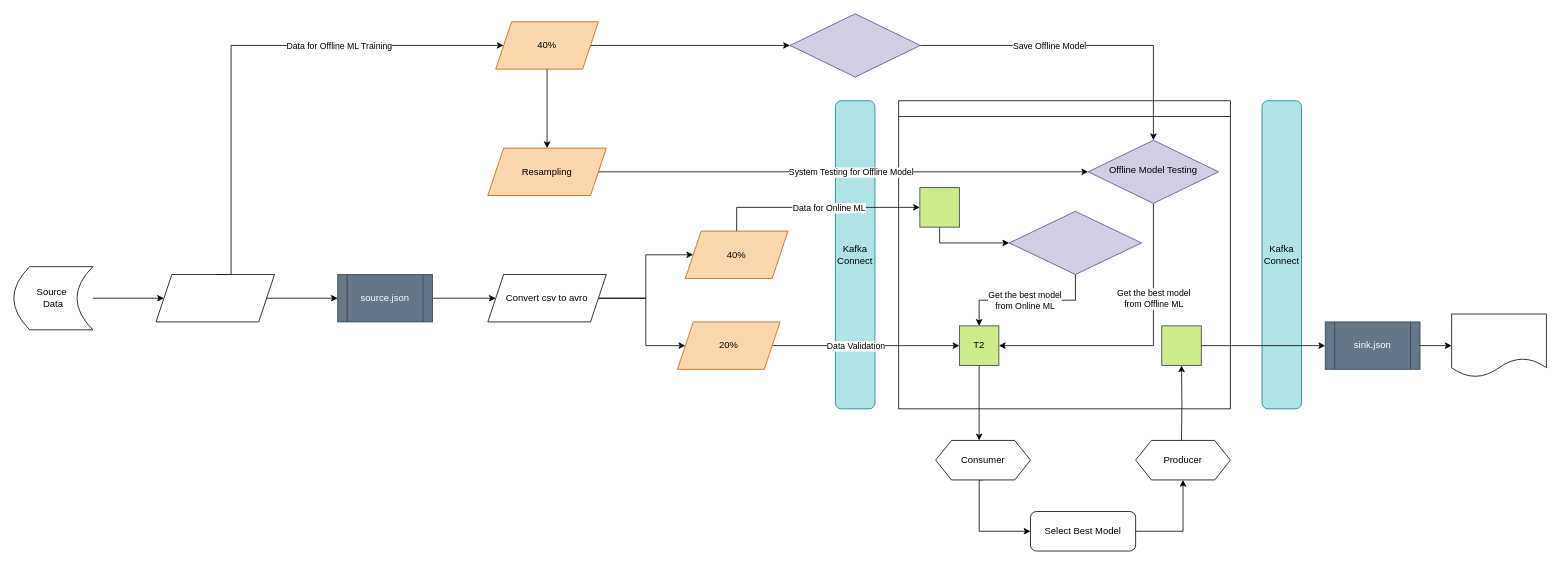
Image size: 1560x565. Some labels were removed from this diagram. Here are the shapes that lost their labels. From the top down, the box of each, then its label:
(789, 13, 920, 77): Offline ML
(919, 187, 959, 227): T1
(898, 100, 1230, 409): Kafka
(1008, 211, 1142, 275): Online ML
(155, 274, 275, 322): Split Data 40:40:20
(1161, 325, 1201, 365): T3
(1451, 313, 1546, 377): Visualization
